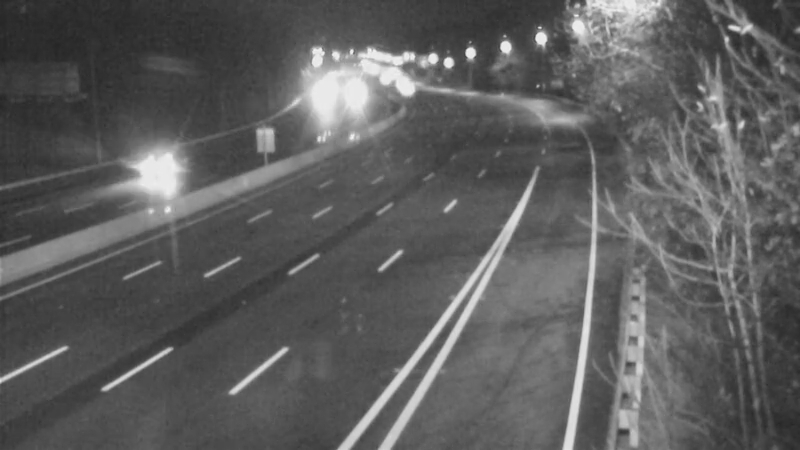vehicle: (123, 132, 203, 212), (358, 56, 408, 106), (382, 62, 432, 112), (298, 73, 348, 123), (333, 72, 383, 122)
